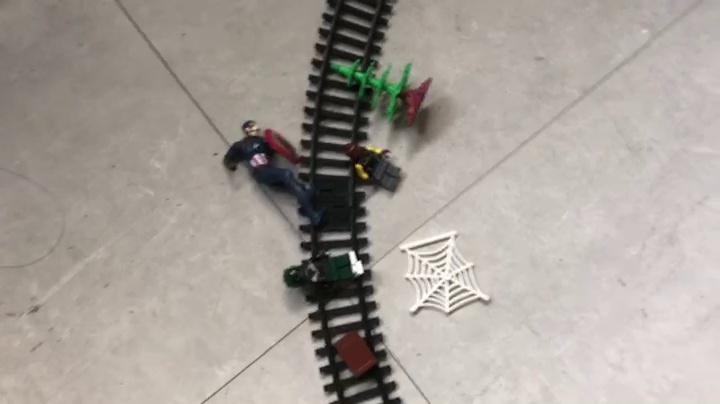box: (333, 329, 382, 378)
people: (223, 118, 327, 228), (279, 250, 370, 300), (342, 140, 404, 197)
tree: (330, 59, 438, 131)
web: (399, 231, 493, 320)
